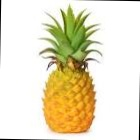Pineapple: (35, 3, 106, 134)
